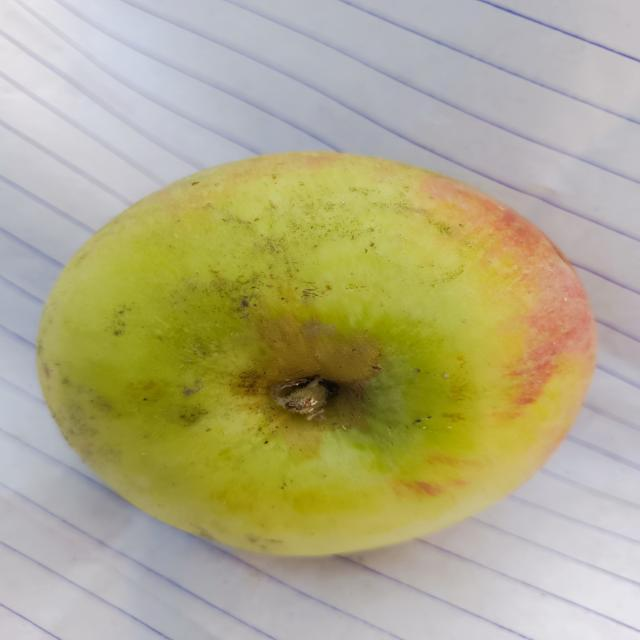Fresh Apple: (41, 153, 582, 560)
